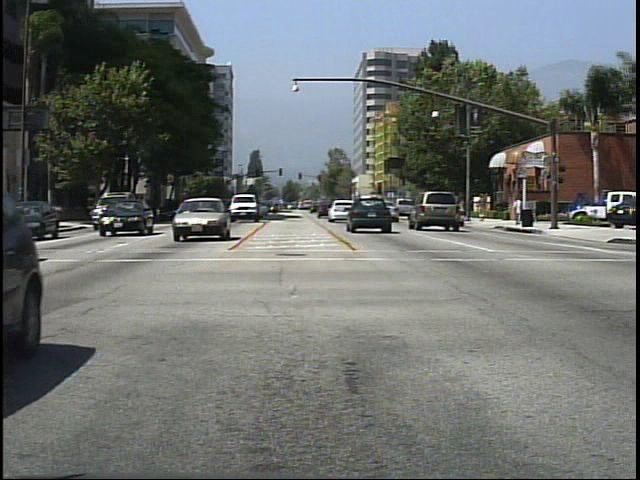person: (509, 193, 524, 229), (476, 192, 488, 224)
